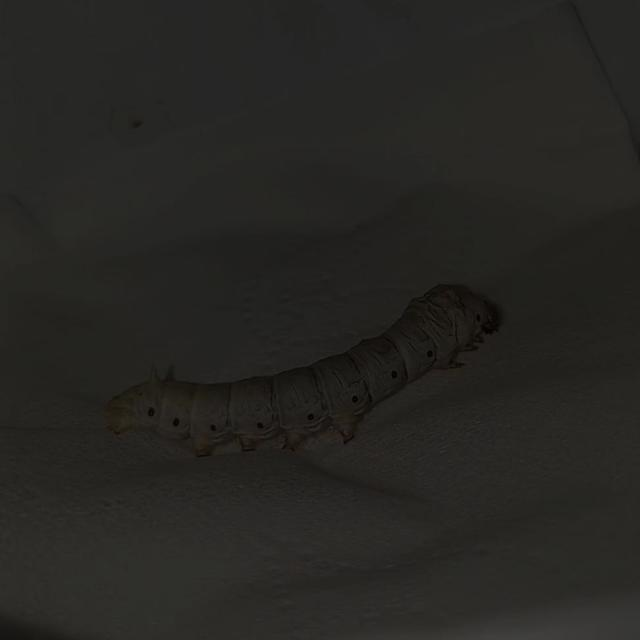Healthy: (94, 261, 511, 476)
